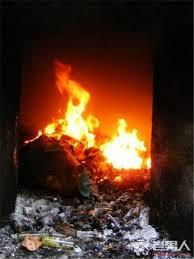fire: (33, 59, 150, 171)
